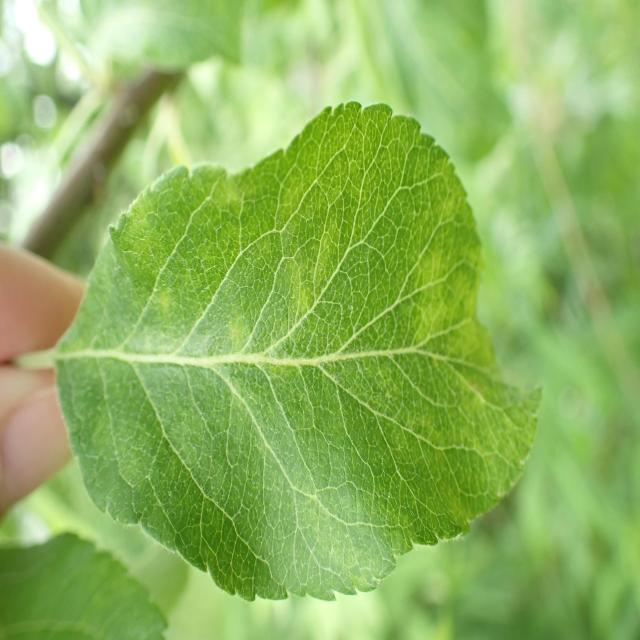scab: (76, 178, 507, 516)
